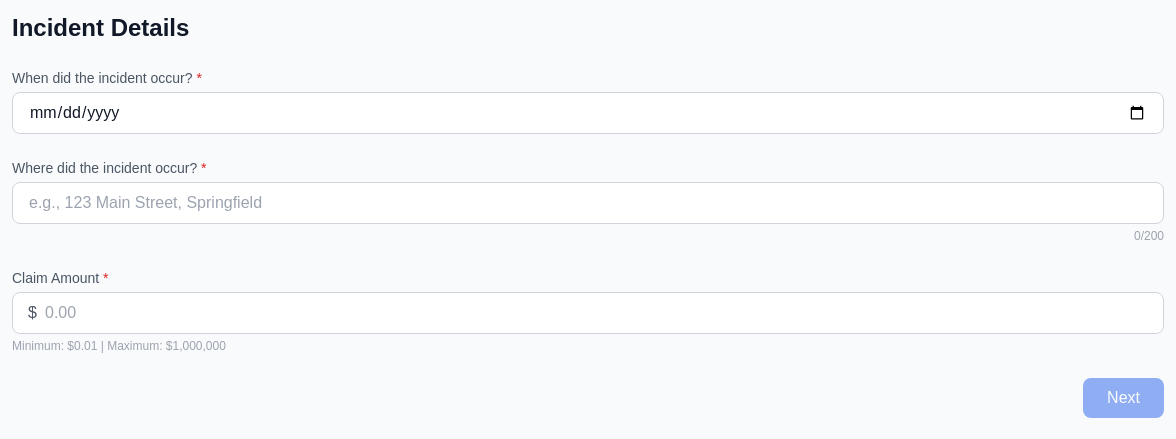
Test: TC-SUB-09 wizard step 1 blocks invalid input › explains a location that is too short
The width and height of the screenshot is (1176, 439).
Type "abcd" into the field labelled "Where did the incident occur? *" at (588, 203), box [12,182,1164,224]
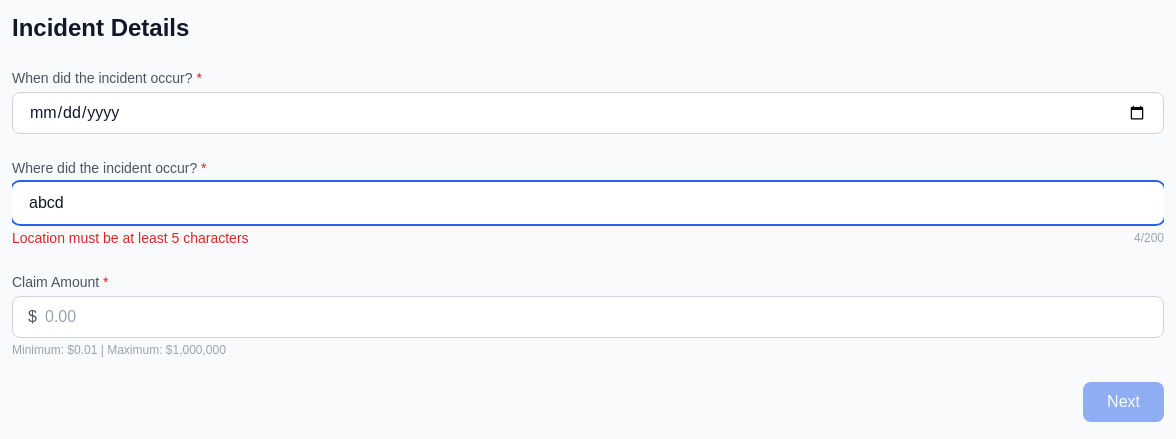
Expected: the button "Next" is disabled, [1083,382,1164,422]
Result: the text "Location must be at least 5 characters" is shown at [12,228,249,248]
